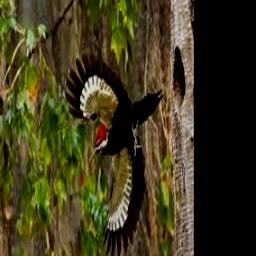Woodpecker: (62, 50, 163, 253)
